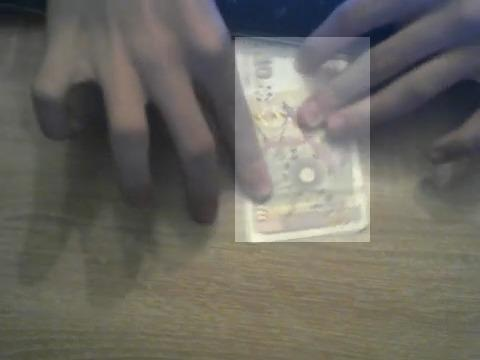10leva: (235, 37, 370, 242)
